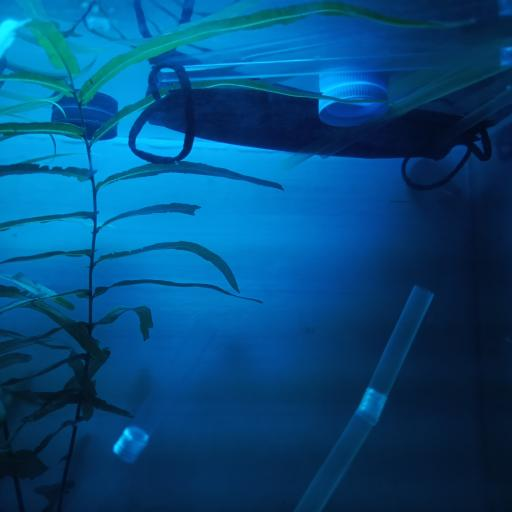bottle_cap: (52, 91, 118, 135), (316, 82, 384, 122)
mask: (129, 58, 497, 197)
plastic_straw: (48, 306, 224, 512), (289, 279, 435, 512), (290, 56, 512, 164), (148, 37, 512, 102)
